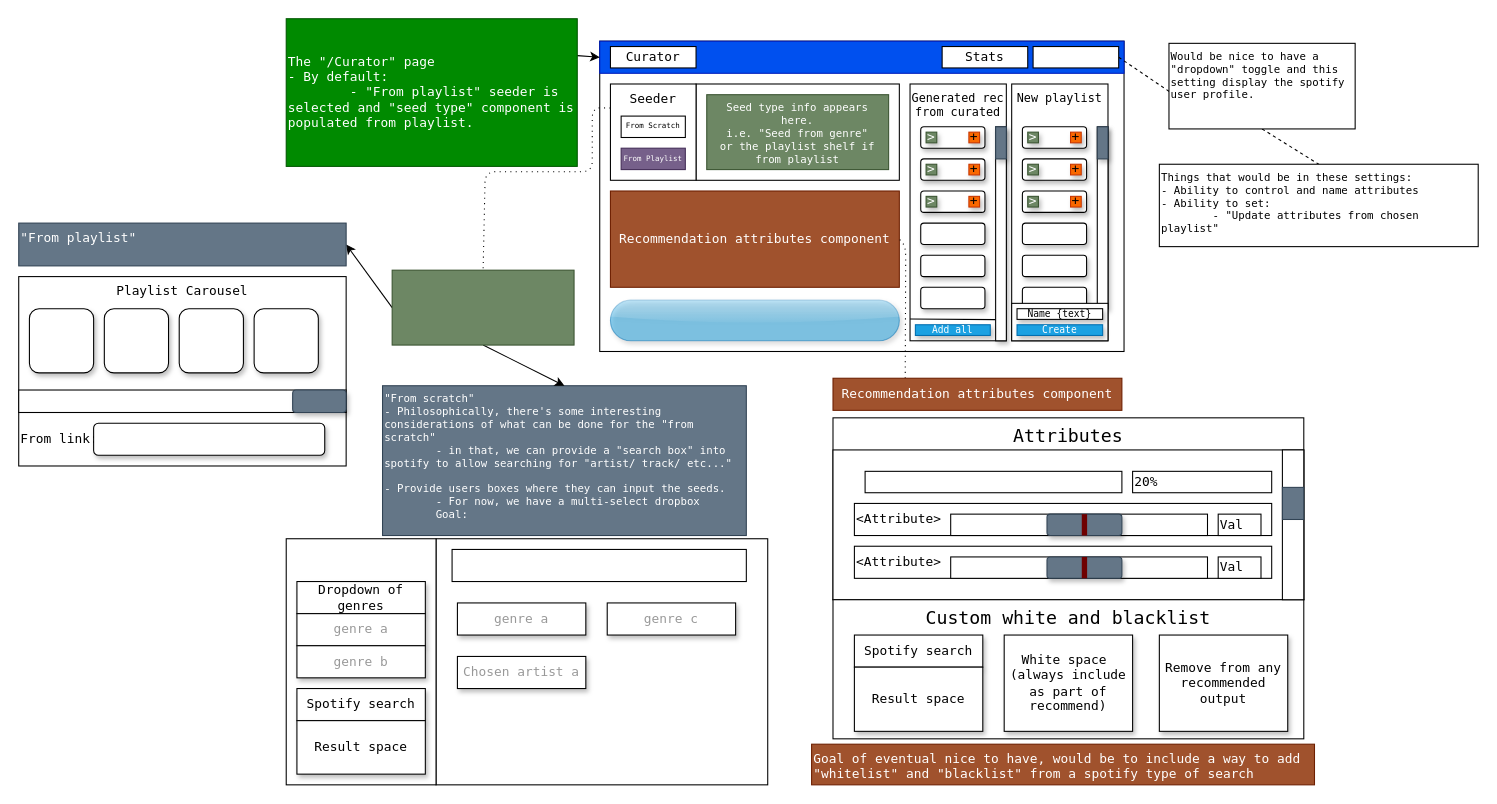
Image size: 1497x804. Some labels were removed from this diagram. The centre of each missing label's shape, as x and y in pixels:
"Paste spotify playlist link": (x=209, y=440)
Curate (button to populate rec): (x=755, y=321)
Curator recipe space: (x=598, y=565)
Seed type info views: (x=482, y=307)
Settings: (x=1075, y=56)
Tolerance: (x=993, y=481)
